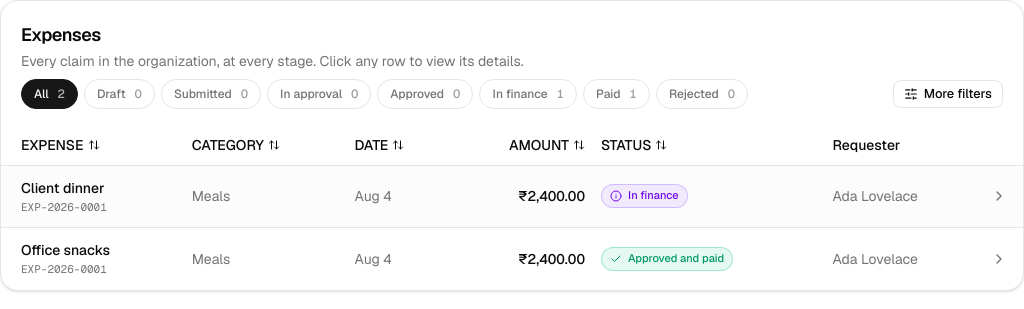
OrgWideExpenseList › writes chip changes to the URL and hydrates back from it
Click the button "Paid 1". click: click(616, 94)
box: [583,79,650,109]
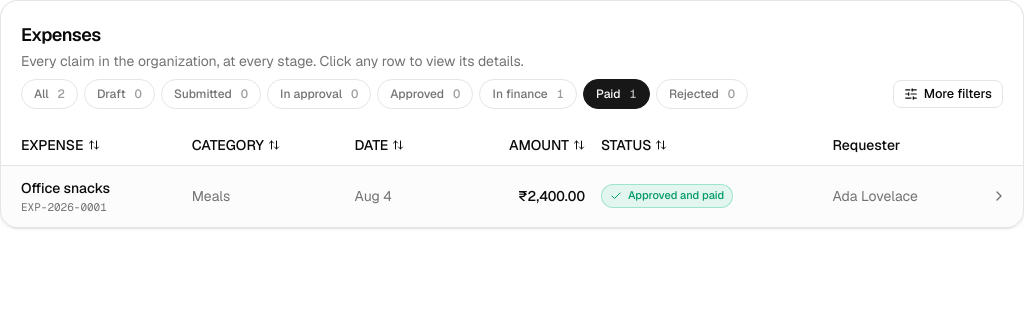
Check: the text "Office snacks" is shown, box [21,178,110,196]
Check: the text "Client dinner" is gone
